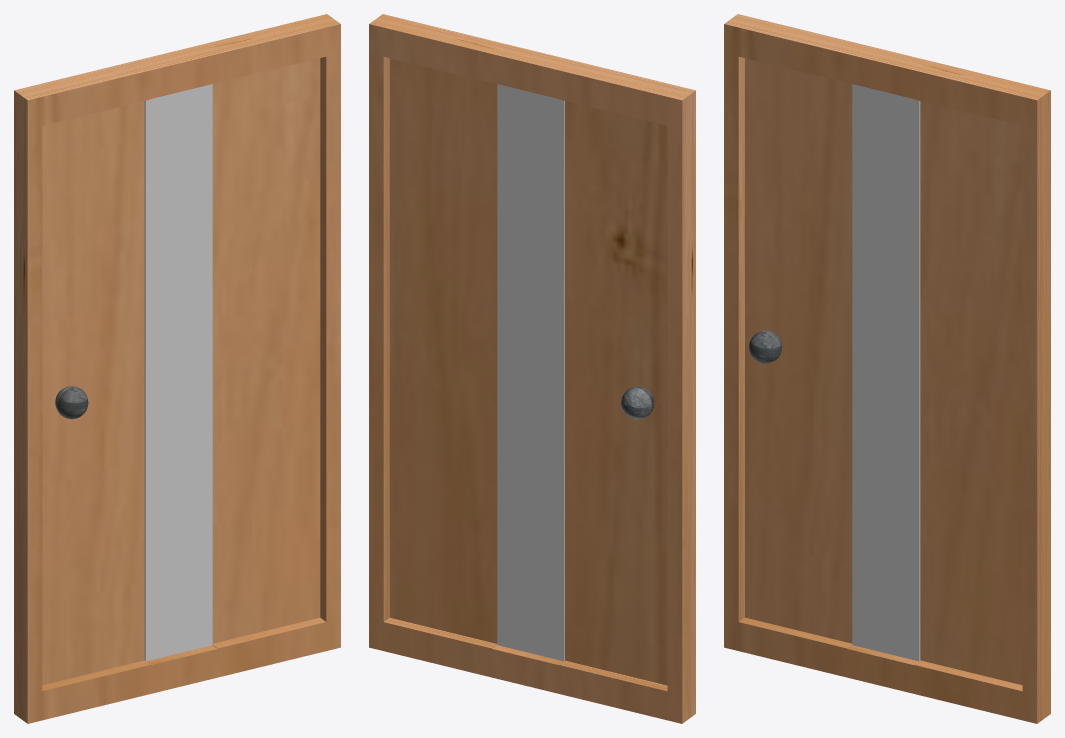
File: BIRCH DOOR WITH GLASS IN THE MIDDLE.glb
The picture shows the model from 3 angles, left to right: view 1: azimuth 30°, elevation 25°; view 2: azimuth 150°, elevation 25°; view 3: azimuth 330°, elevation 25°; orthographic projection.
Visible parts, largest first — view 1: BODY, Cubo, SHEET METAL; view 2: BODY, Cubo, SHEET METAL; view 3: BODY, Cubo, SHEET METAL.
Part boxes in pixels (bbox=[...]): BODY: bbox=[14, 14, 340, 723]; Cubo: bbox=[144, 84, 212, 661]; SHEET METAL: bbox=[55, 386, 88, 419]; BODY: bbox=[369, 14, 695, 723]; Cubo: bbox=[497, 84, 564, 661]; SHEET METAL: bbox=[621, 386, 654, 419]; BODY: bbox=[724, 14, 1050, 723]; Cubo: bbox=[852, 84, 920, 661]; SHEET METAL: bbox=[749, 330, 781, 363].
Size of the model in its own units: 2.12 by 4.04 by 0.3883.
3 materials, 2 textured.
